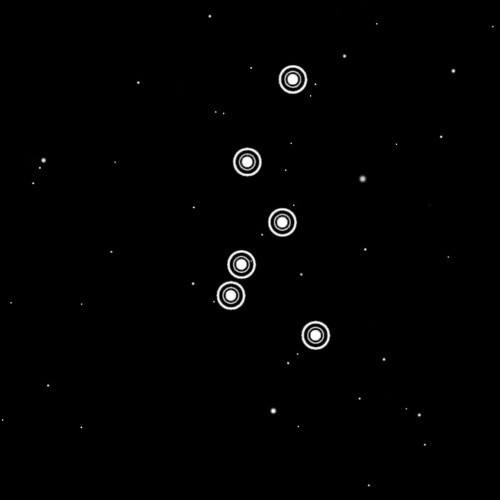cassiopeia: (208, 59, 334, 357)
